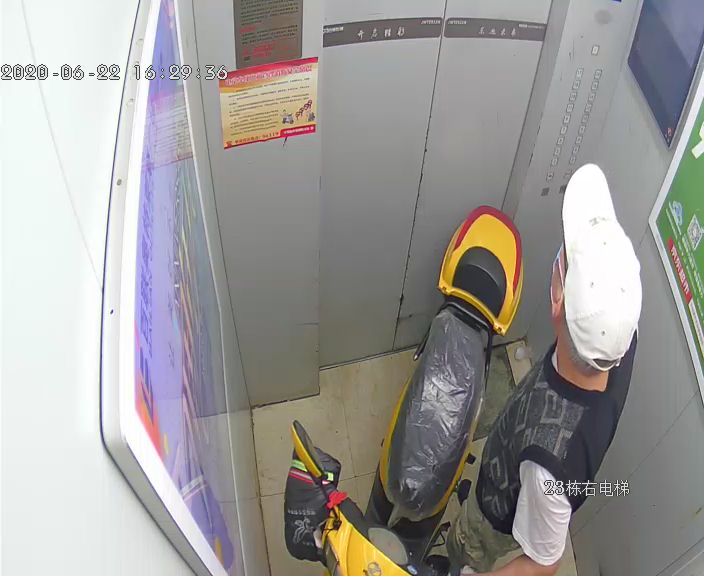Electric-bicycle: (290, 202, 523, 576)
